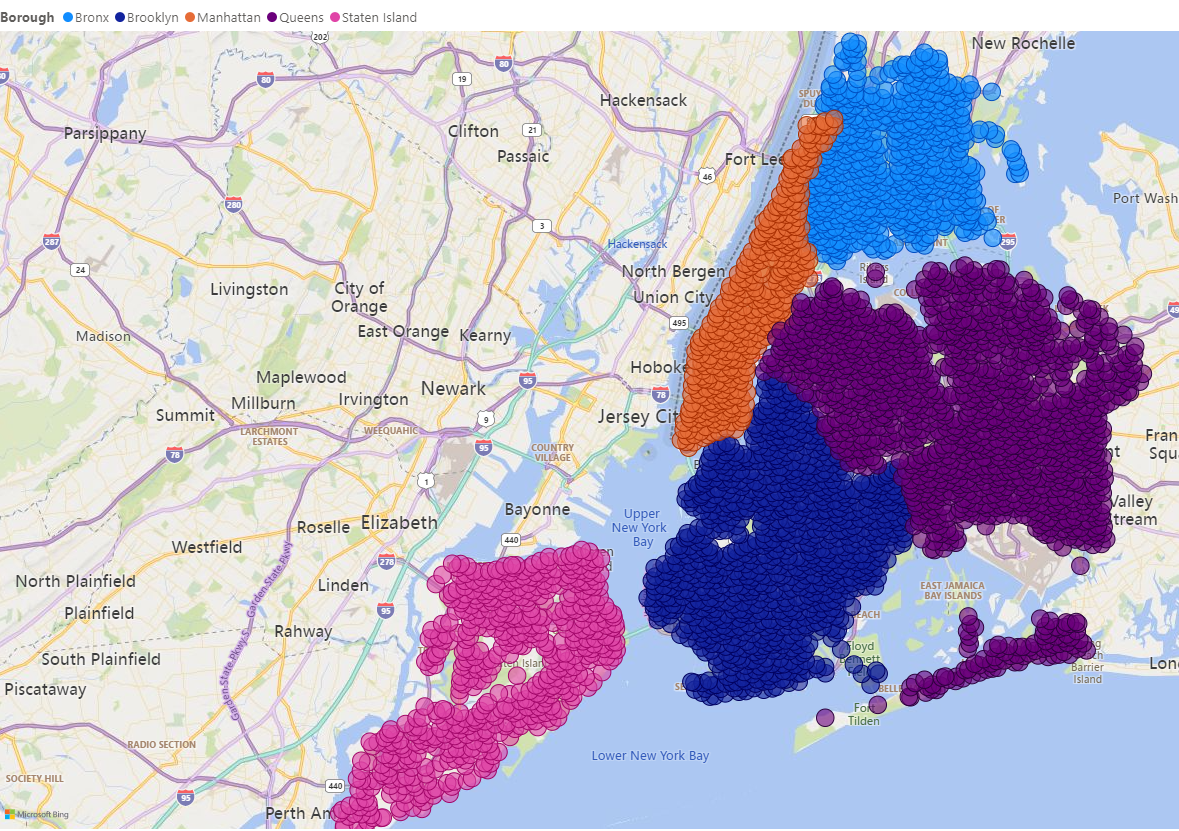

The dashboard page shown, as its layout file describes it:
{"tool":"powerbi","page":{"name":"Page 1","canvas":[1280,720],"ordinal":0},"visuals":[{"type":"map","fields":{"Y":["clean_df.Latitude"],"X":["clean_df.Longitude"],"Series":["clean_df.Borough"]},"box":[0,0,1280,719.8],"z":0}]}

Visuals, with their boxes on the page's 1280x720 design canvas (x1, y1, x2, y2). These are canvas units, not pixel positions in the 1179x831 screenshot, which may show the page scaled, cropped or inside an application window:
map - clean_df.Latitude x clean_df.Longitude: (0, 0, 1280, 720)
